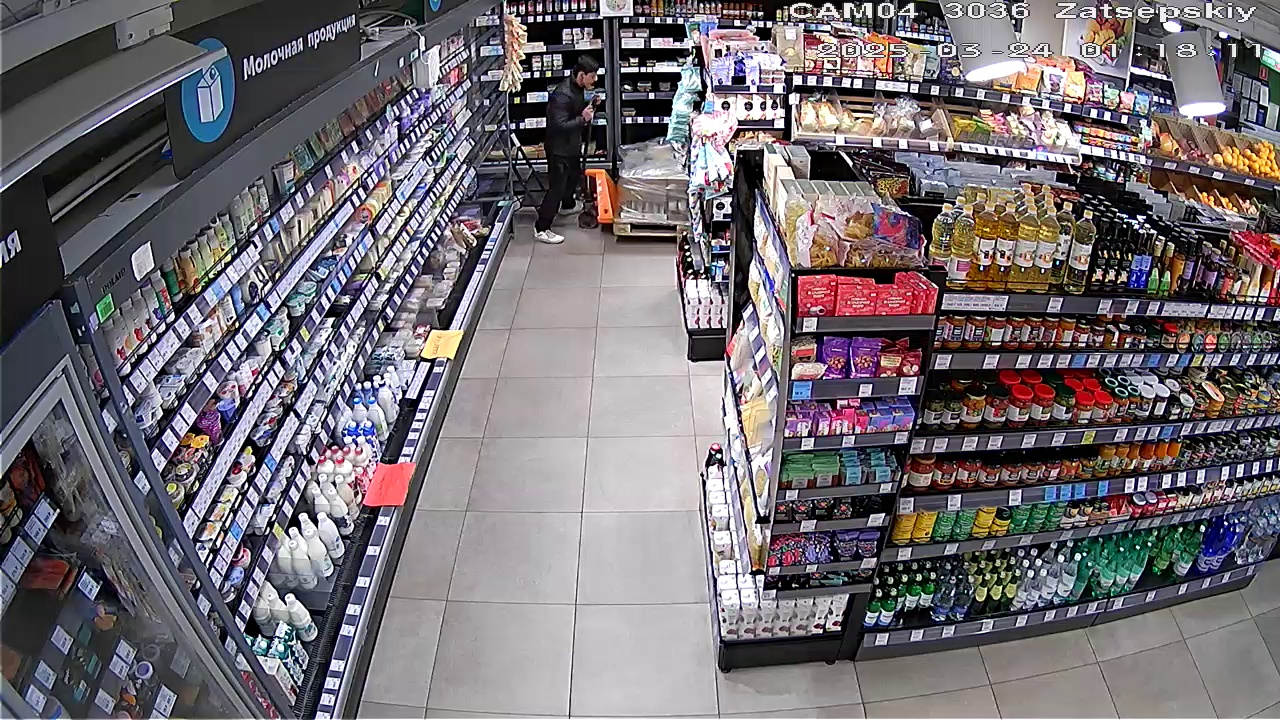Human: (521, 48, 606, 238)
pallet: (585, 135, 692, 236)
